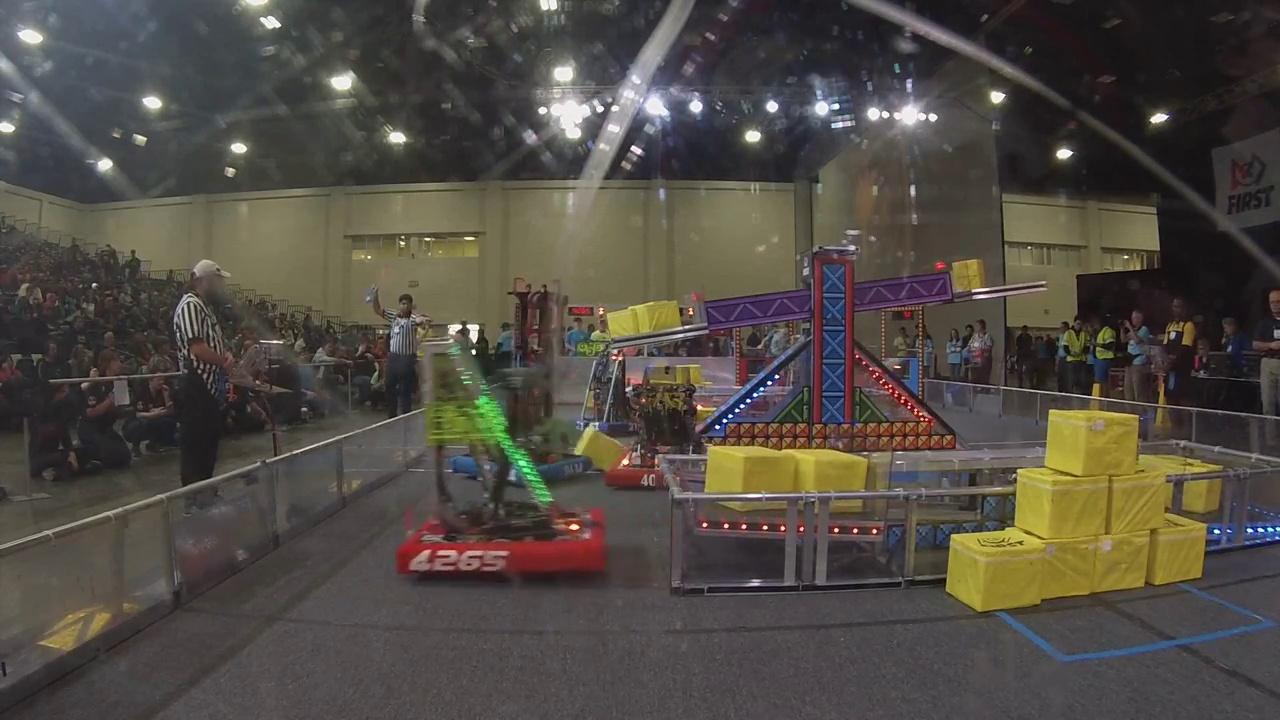robot: (395, 332, 613, 575), (451, 278, 595, 490), (606, 362, 731, 496), (575, 343, 643, 438)
